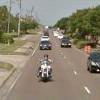Motorcycle: (32, 51, 67, 83)
